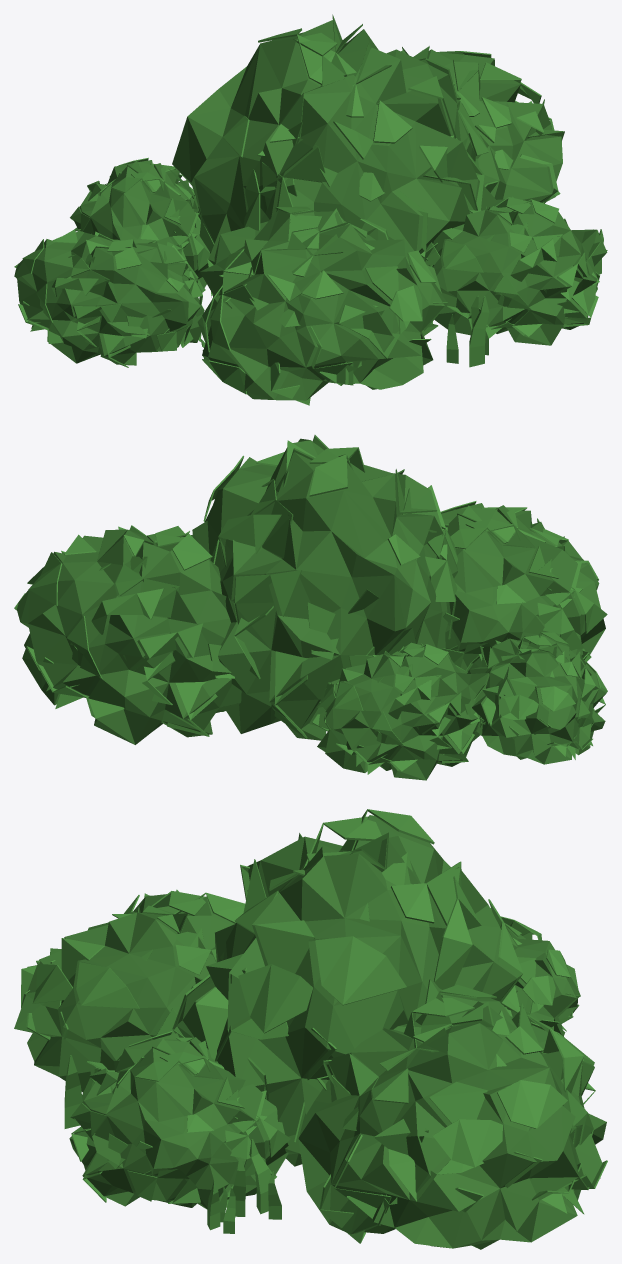
The model's file is Bush group 2.fbx.
3 renders of one model, top to bottom at view 1: azimuth 30°, elevation 25°; view 2: azimuth 150°, elevation 25°; view 3: azimuth 270°, elevation 25°, orthographic. The views are drawn at different scales.
Visible parts, largest first — view 1: Bush group 2; view 2: Bush group 2; view 3: Bush group 2.
Part boxes in pixels (x1=…): Bush group 2: x1=14, y1=14, x2=607, y2=405; Bush group 2: x1=14, y1=435, x2=607, y2=780; Bush group 2: x1=14, y1=809, x2=607, y2=1249.
Size of the model in its own units: 11.12 by 5.3 by 8.81.
